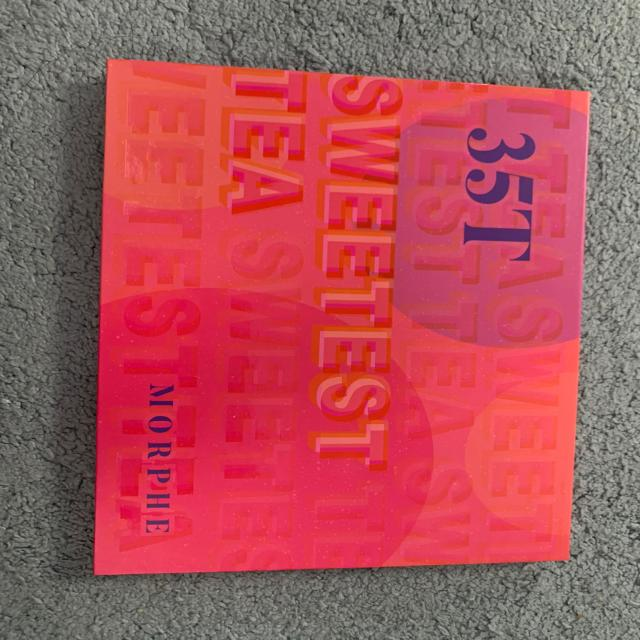makeup: (64, 44, 614, 601)
